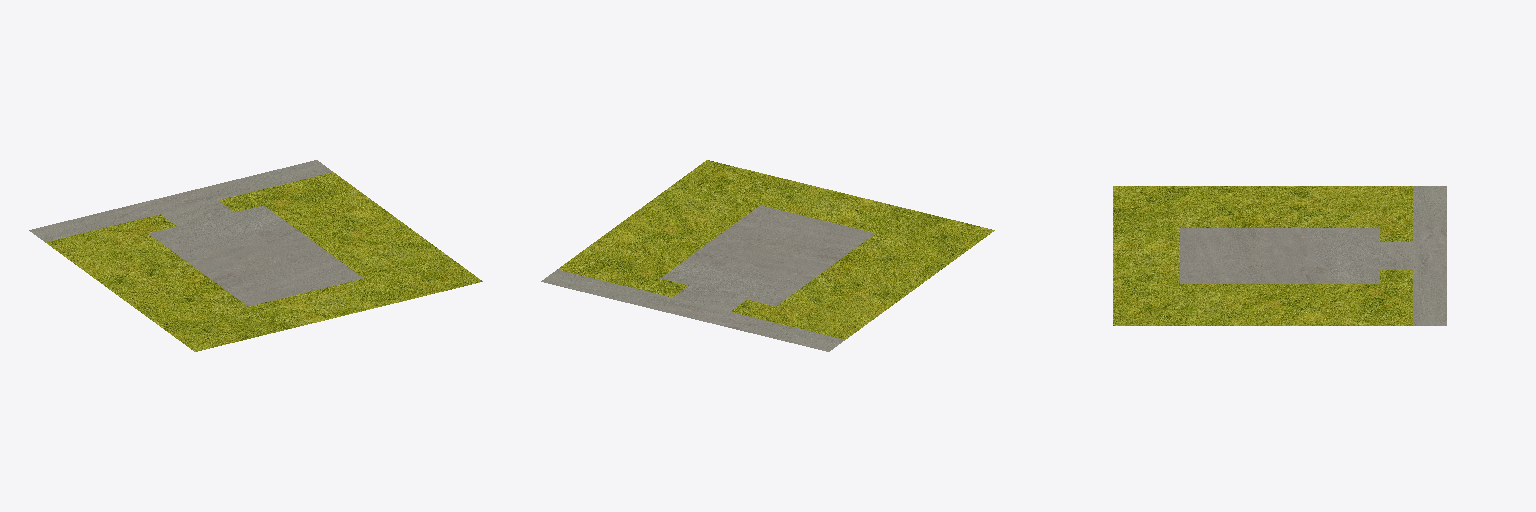
3 renders of one model, left to right at view 1: azimuth 30°, elevation 25°; view 2: azimuth 150°, elevation 25°; view 3: azimuth 270°, elevation 25°, orthographic.
Visible parts, largest first — view 1: pPlane1; view 2: pPlane1; view 3: pPlane1.
Boxes of the visible parts, box(x1,y1,x2,y2) form: pPlane1: box(29, 160, 482, 351); pPlane1: box(541, 160, 994, 351); pPlane1: box(1113, 186, 1446, 325).
Bounding box in the file's own units: 5000 × 0 × 5000.
2 materials, 2 textured.